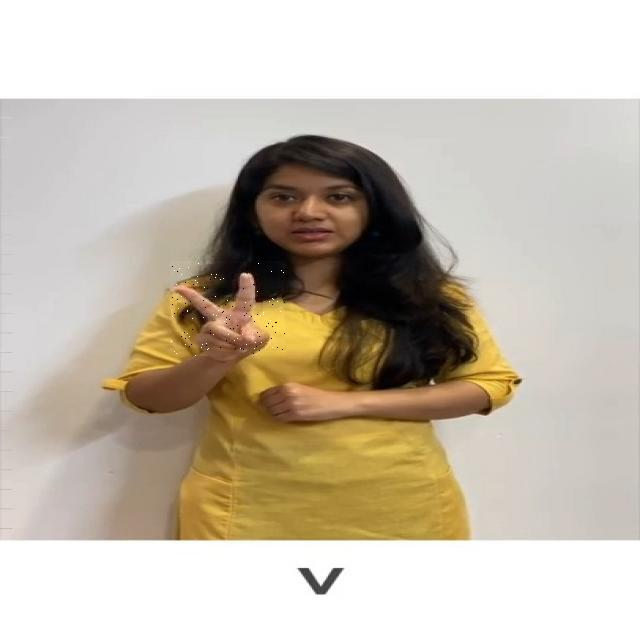V: (170, 261, 285, 356)
